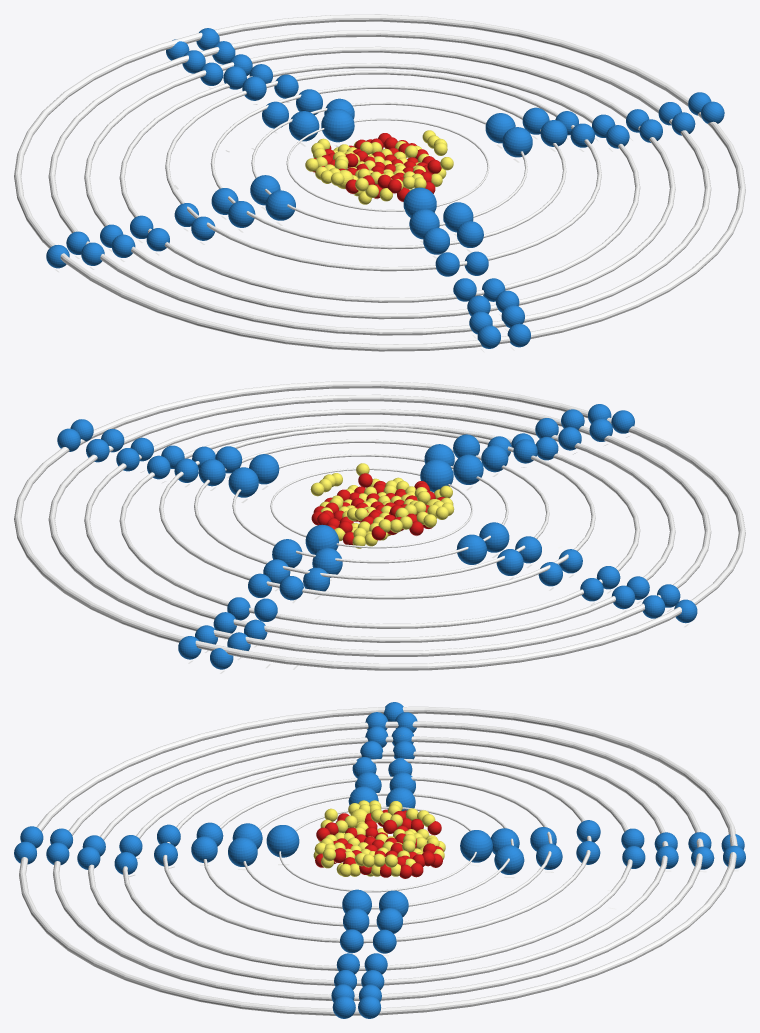
3 views of the same model, one above another, from view 1: azimuth 30°, elevation 25°; view 2: azimuth 150°, elevation 25°; view 3: azimuth 270°, elevation 25° (orthographic).
Parts seen in each view (by area): view 1: Torus.008, Torus.007, Torus.006, Torus.005, Torus.004, Torus.003, Torus.002, Torus.001, g, g.005, g.003, g.001 (+9 smaller); view 2: Torus.008, Torus.007, Torus.006, Torus.005, Torus.004, Torus.003, Torus.002, Torus.001, g.001, g, g.006, g.004 (+12 smaller); view 3: Torus.008, Torus.007, Torus.006, Torus.005, Torus.004, Torus.003, Torus.002, g.001, Torus.001, g, g.007, g.009 (+6 smaller).
Part boxes in pixels (x1,y1,x2,y2): Torus.008: [14, 14, 745, 351]; Torus.007: [48, 30, 711, 335]; Torus.006: [84, 46, 675, 319]; Torus.005: [119, 63, 640, 302]; Torus.004: [165, 70, 601, 271]; Torus.003: [210, 85, 566, 249]; Torus.002: [251, 102, 527, 229]; Torus.001: [286, 118, 489, 211]; g: [321, 109, 354, 142]; g.005: [502, 127, 532, 157]; g.003: [265, 190, 295, 220]; g.001: [403, 187, 436, 217]; Torus.008: [14, 381, 745, 670]; Torus.007: [48, 394, 711, 656]; Torus.006: [84, 409, 675, 642]; Torus.005: [119, 423, 640, 628]; Torus.004: [159, 426, 595, 599]; Torus.003: [194, 439, 549, 580]; Torus.002: [232, 454, 508, 563]; Torus.001: [270, 468, 472, 548]; g.001: [420, 459, 453, 492]; g: [305, 524, 338, 554]; g.006: [453, 454, 483, 484]; g.004: [228, 467, 258, 497]; Torus.008: [19, 706, 737, 1015]; Torus.007: [53, 721, 703, 1000]; Torus.006: [88, 736, 668, 985]; Torus.005: [122, 751, 632, 971]; Torus.004: [163, 759, 591, 943]; Torus.003: [203, 776, 552, 926]; Torus.002: [243, 793, 513, 909]; g.001: [266, 825, 299, 857]; Torus.001: [279, 806, 476, 892]; g: [460, 830, 492, 862]; g.007: [228, 837, 257, 866]; g.009: [494, 845, 524, 874].
Size of the model in its own units: 22.22 by 2.85 by 22.05.
